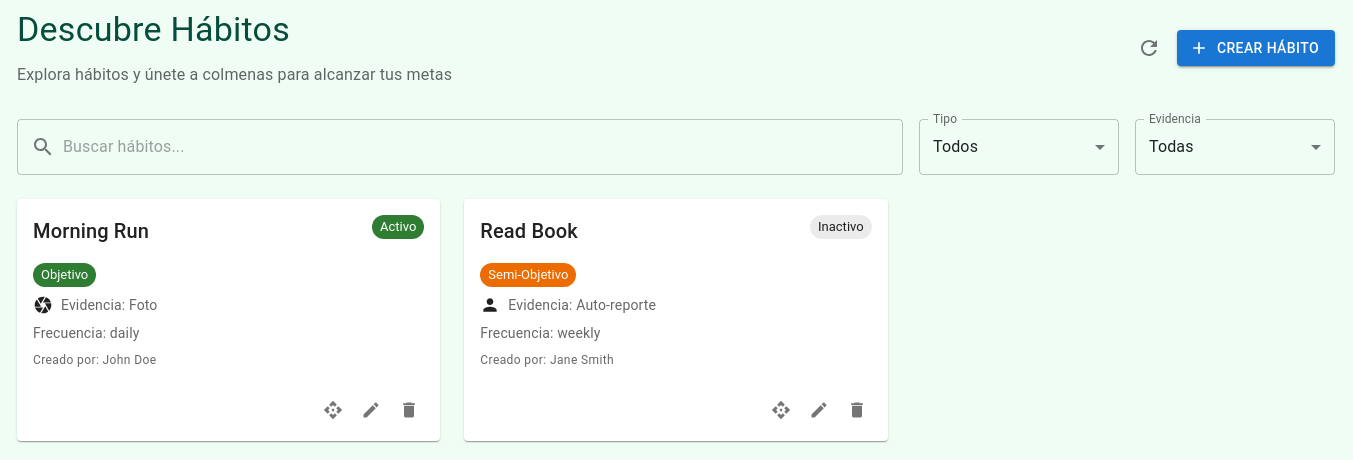
Test: HabitsPage › Filtering › should filter habits by type
Expected: the heading "Morning Run" is shown, top-left (33, 219), bottom-right (149, 243)
Press the mouse on the dropdown labelled "Todos": (956, 147) top-left (933, 137), bottom-right (978, 156)
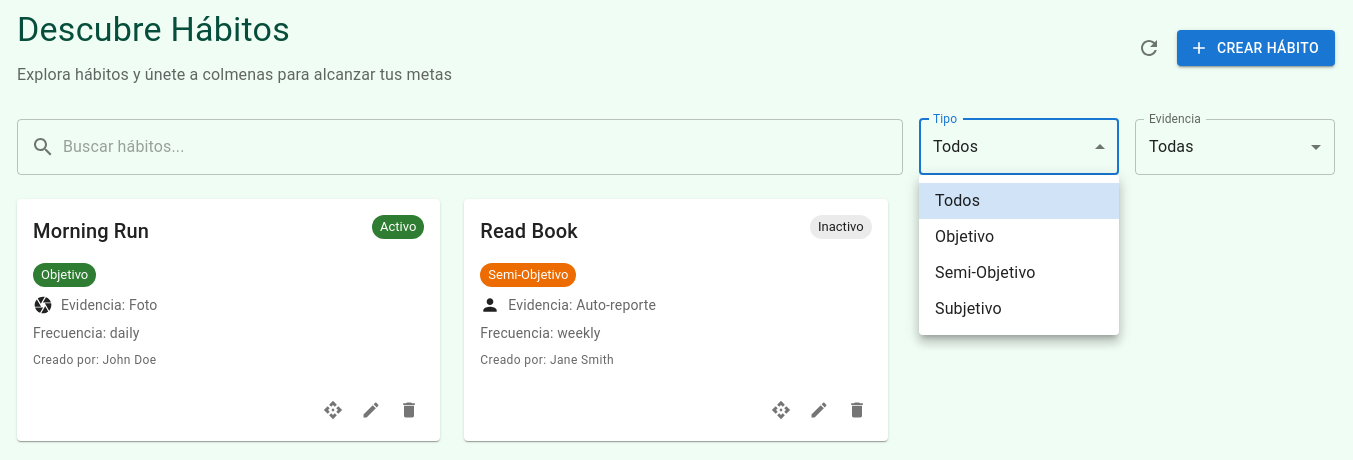
Click the option "Objetivo": (965, 236) top-left (935, 227), bottom-right (994, 246)
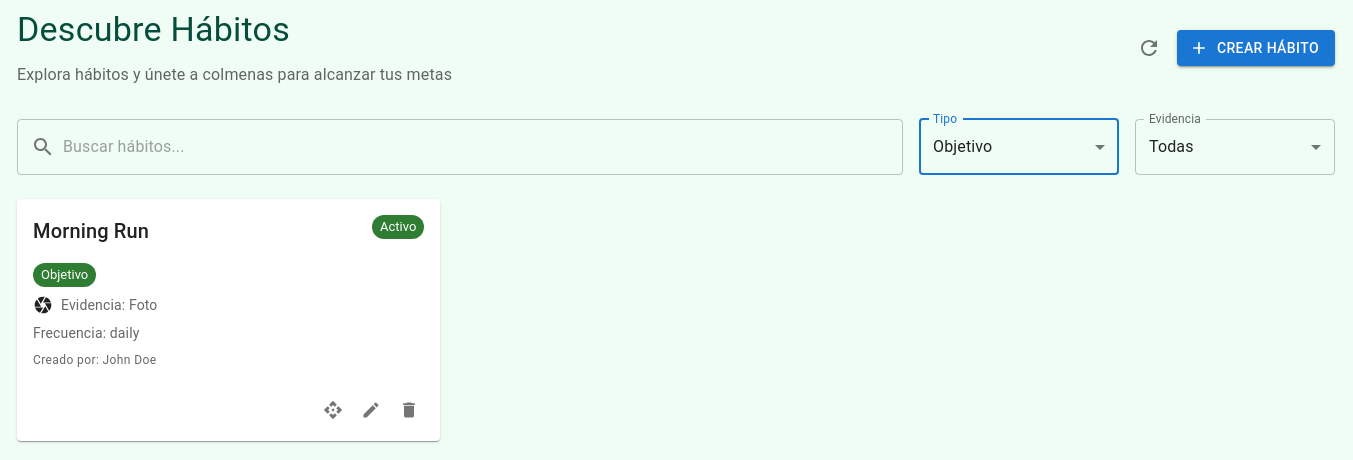
Expected: the heading "Morning Run" is shown, top-left (33, 219), bottom-right (149, 243)
Expected: the heading "Read Book" is gone
